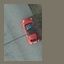car: (22, 18, 41, 44)
